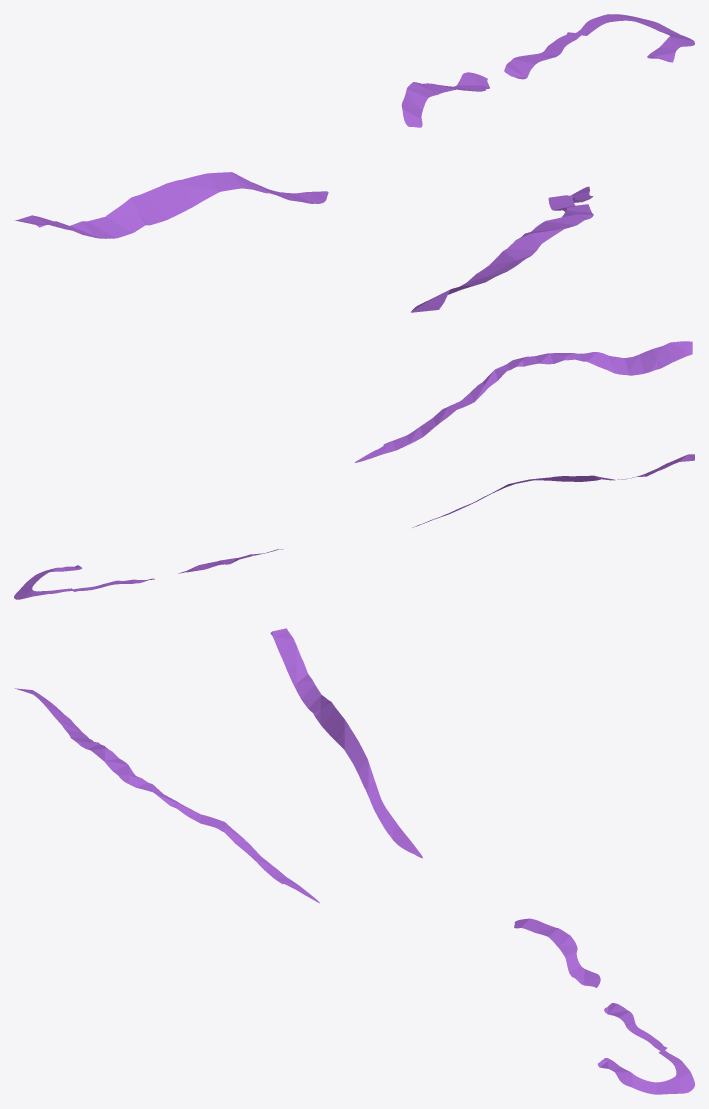
The model's file is 8_Purple Shale (6).dae.
3 renders of one model, top to bottom at view 1: azimuth 30°, elevation 25°; view 2: azimuth 150°, elevation 25°; view 3: azimuth 270°, elevation 25°, orthographic. The views are drawn at different scales.
Parts seen in each view (by area): view 1: Object (×4); view 2: Object (×3); view 3: Object (×4).
Boxes of the visible parts, left/top/right/bottom form: Object (×4): left=14, top=14, right=694, bottom=312; Object (×3): left=14, top=341, right=694, bottom=599; Object (×4): left=15, top=628, right=694, bottom=1094.
Size of the model in its own units: 25.64 by 6.99 by 24.5.
